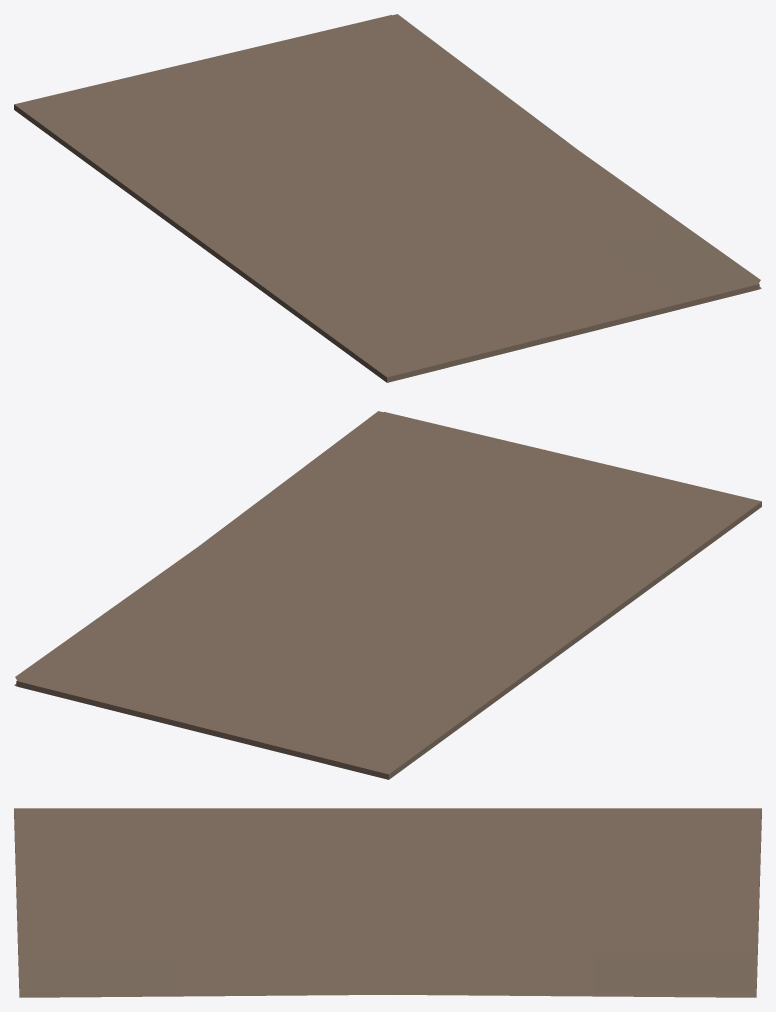
File: SM_Edificio_Interior2.fbx
3 renders of one model, top to bottom at view 1: azimuth 30°, elevation 25°; view 2: azimuth 150°, elevation 25°; view 3: azimuth 270°, elevation 25°, orthographic.
Visible parts, largest first — view 1: Interior.001; view 2: Interior.001; view 3: Interior.001.
Part boxes in pixels (x1=…): Interior.001: x1=14, y1=14, x2=761, y2=382; Interior.001: x1=14, y1=411, x2=761, y2=779; Interior.001: x1=14, y1=808, x2=761, y2=997.
Size of the model in its own units: 2156 by 38.23 by 3680.
